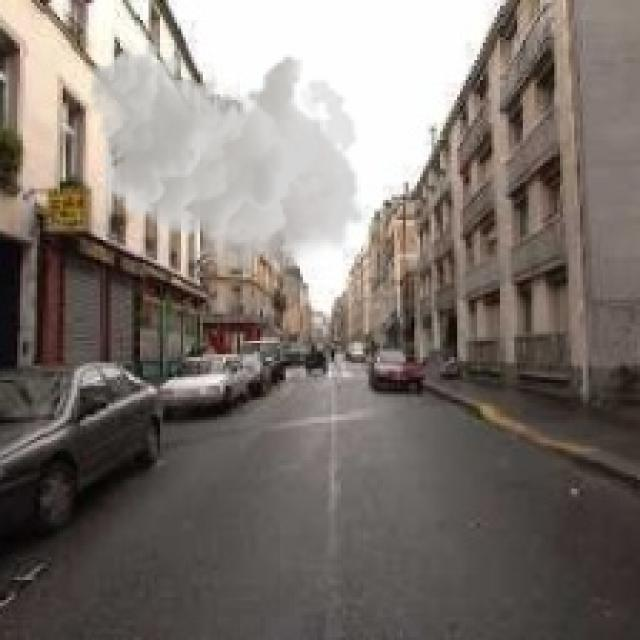smoke: (88, 40, 366, 283)
